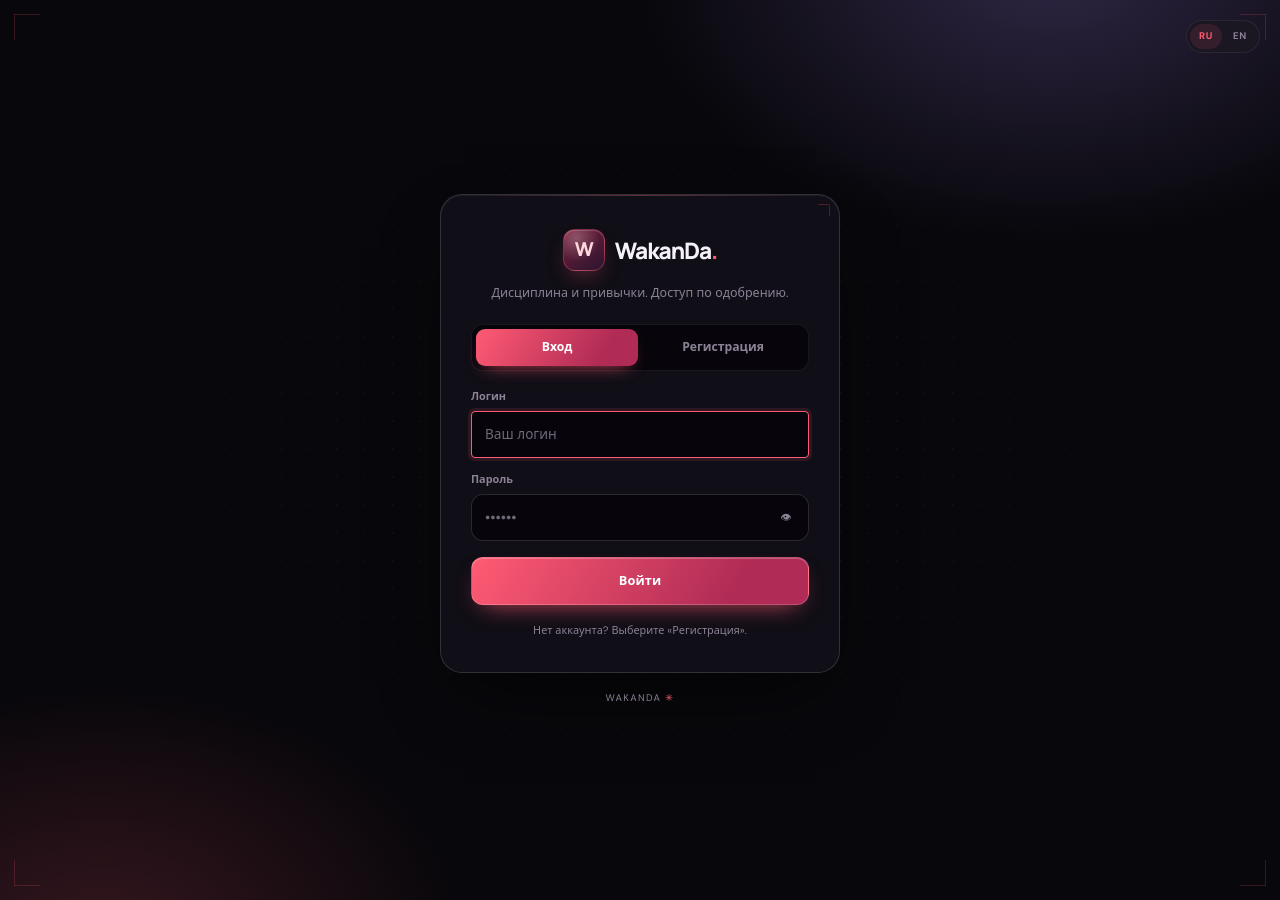
AuthScreen › не пускает короткий логин при регистрации
The image size is (1280, 900).
Click the tab "Регистрация": (723, 347) [642,329,804,366]
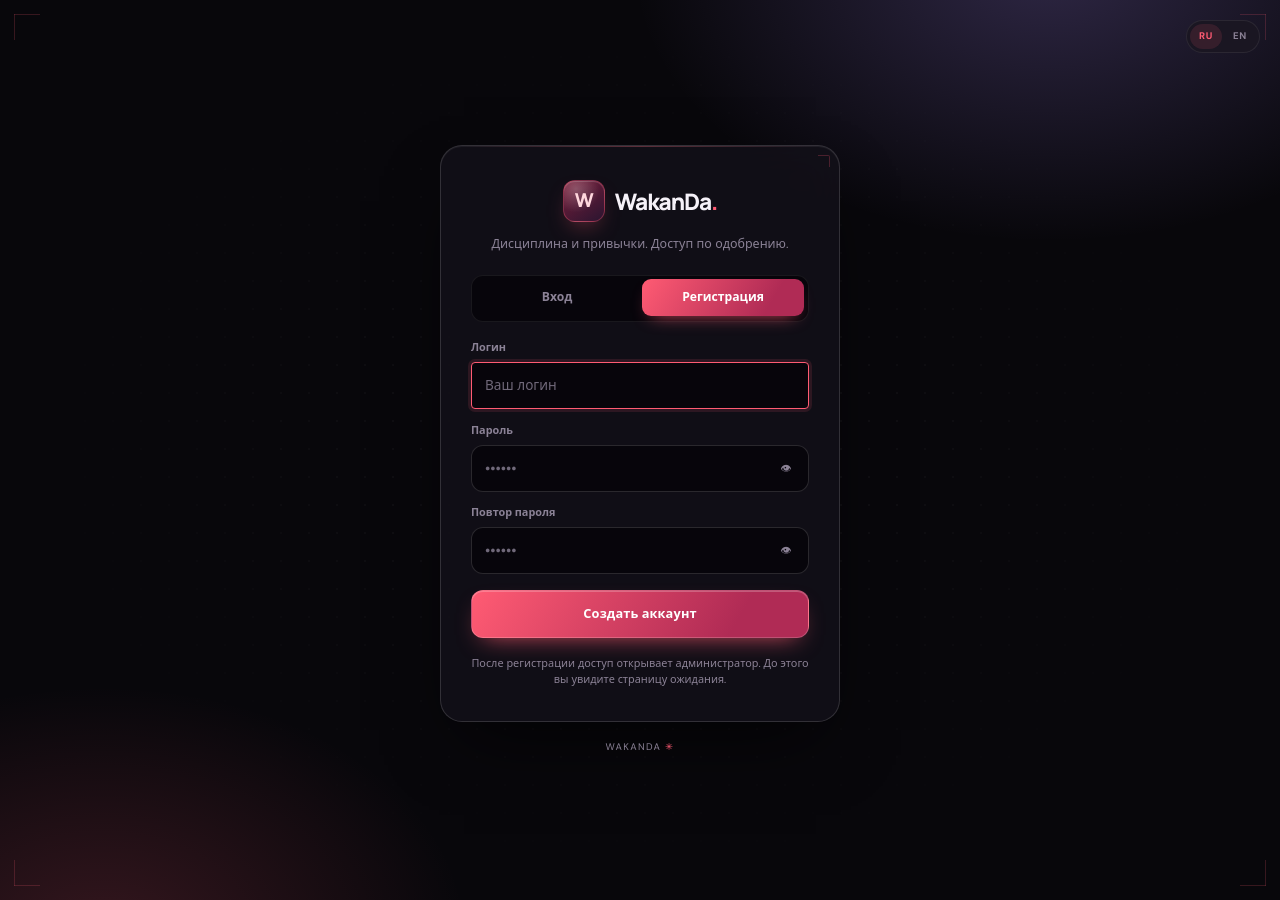
In the field labelled "Логин": (640, 385) [471,361,809,408], type "ab"
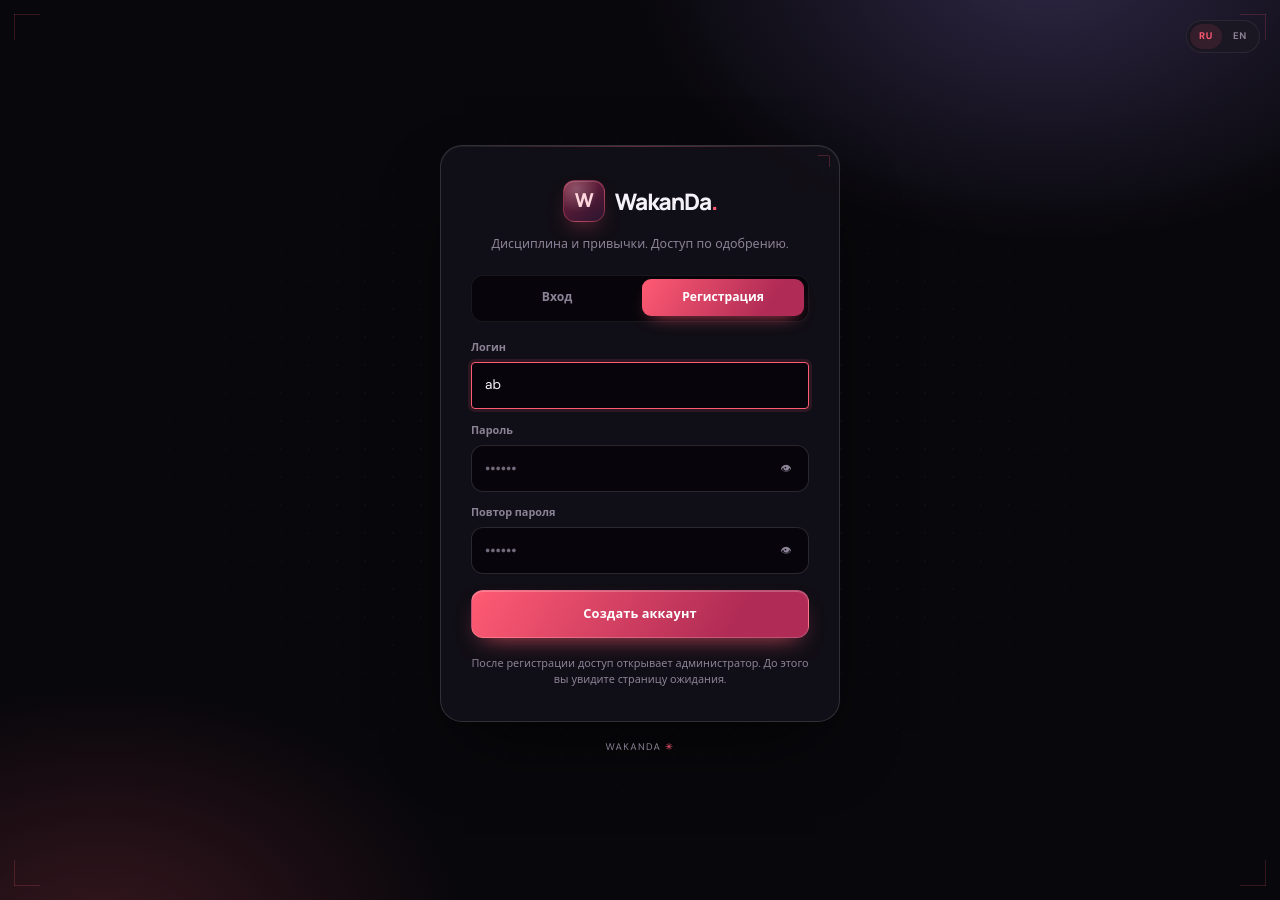
In the password field labelled "Пароль": (640, 468) [471,444,809,491], type "secret1"
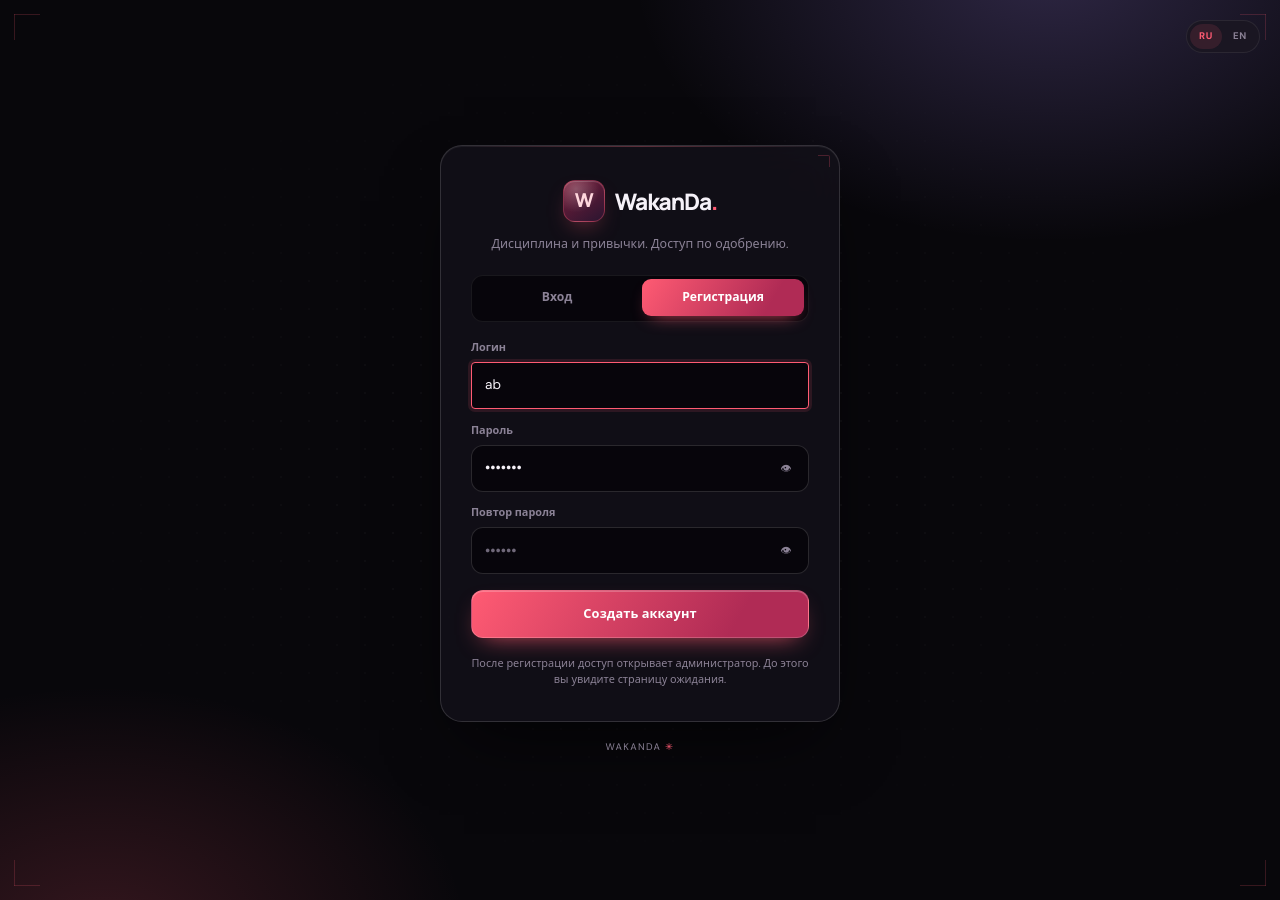
In the password field labelled "Повтор пароля": (640, 550) [471,527,809,574], type "secret1"
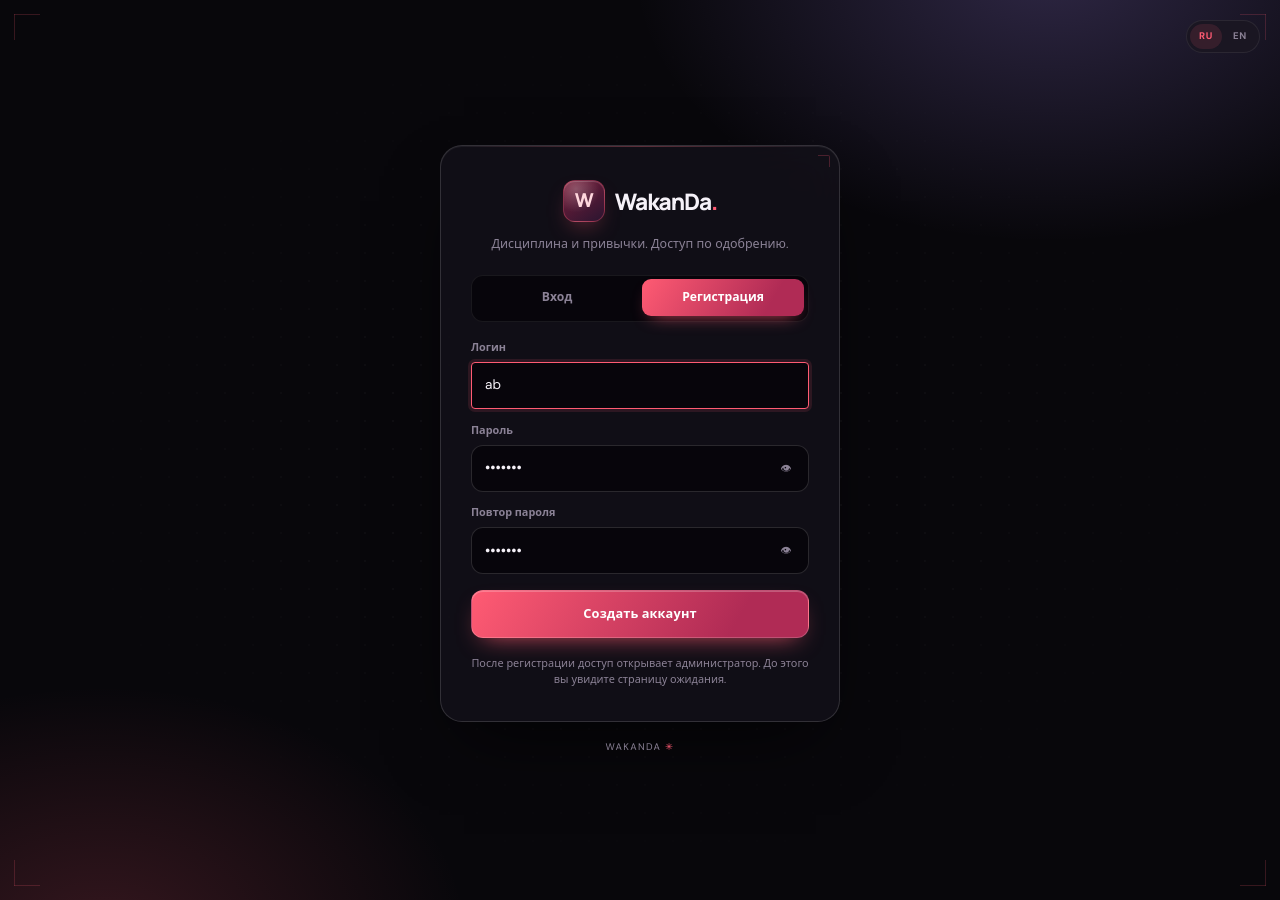
Click the button "Создать аккаунт": (640, 614) [471,590,809,638]
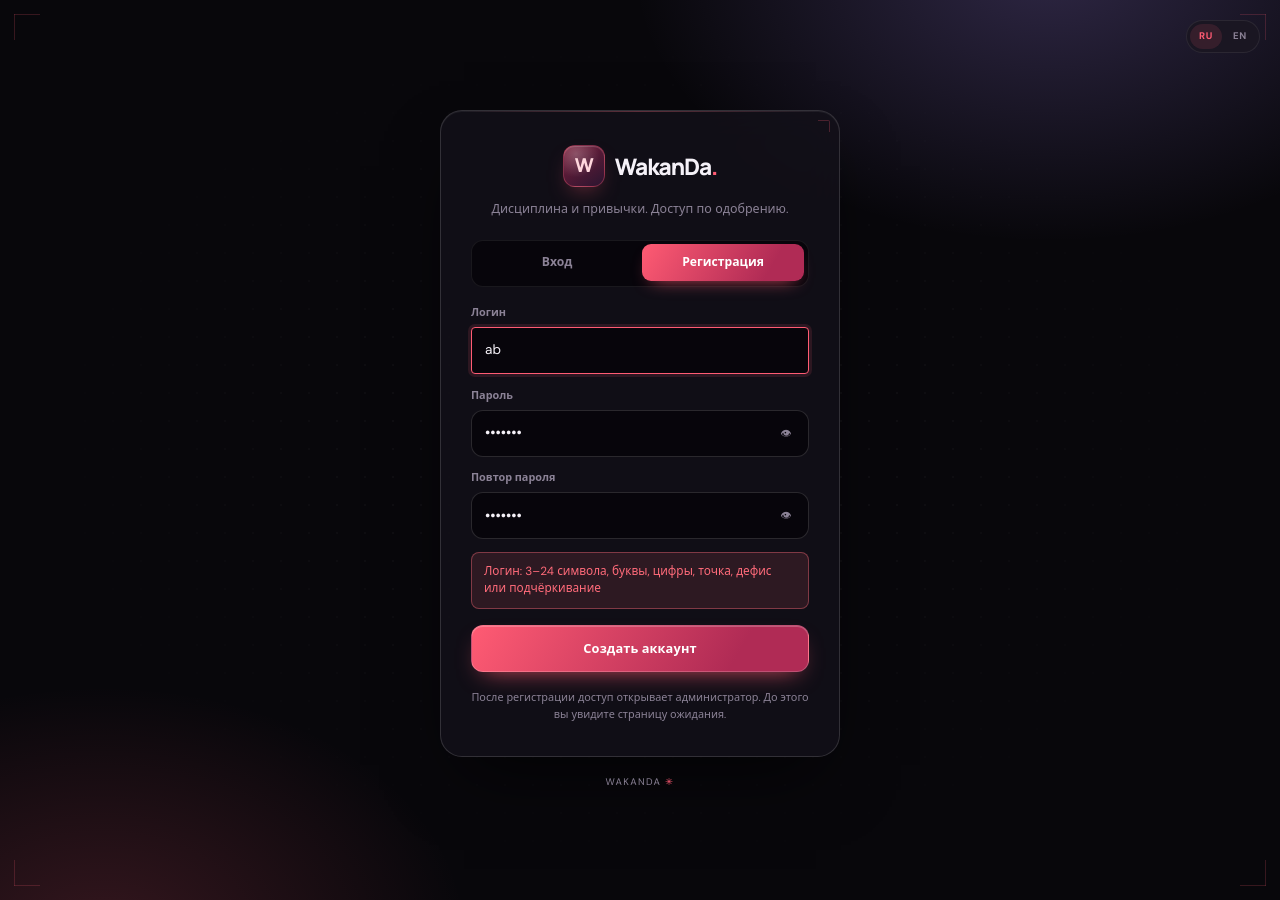
Result: the message reads "Логин: 3–24 символа, буквы, цифры, точка, дефис или подчёркивание" at [484,563,772,596]
